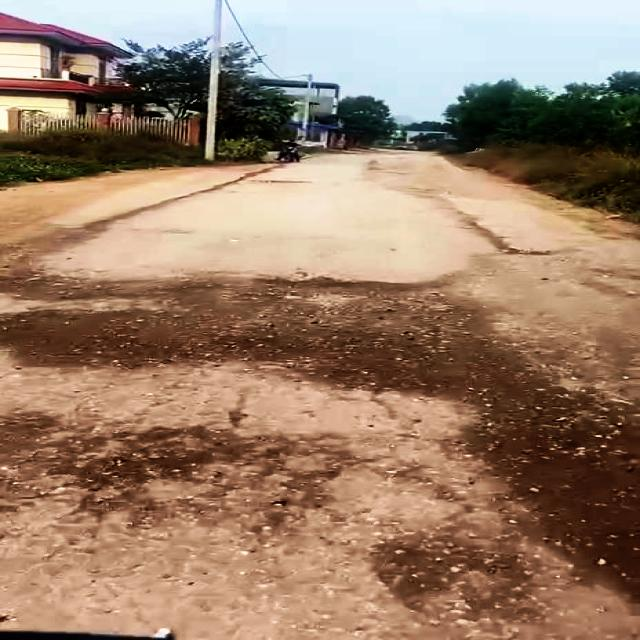pothole: (0, 303, 223, 370), (259, 282, 458, 340)
